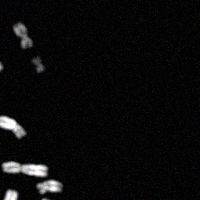chromosome: (2, 161, 47, 176), (0, 115, 26, 138), (13, 23, 32, 49), (36, 180, 61, 194), (32, 56, 44, 72), (2, 189, 17, 200), (29, 198, 52, 200), (0, 61, 1, 78)
